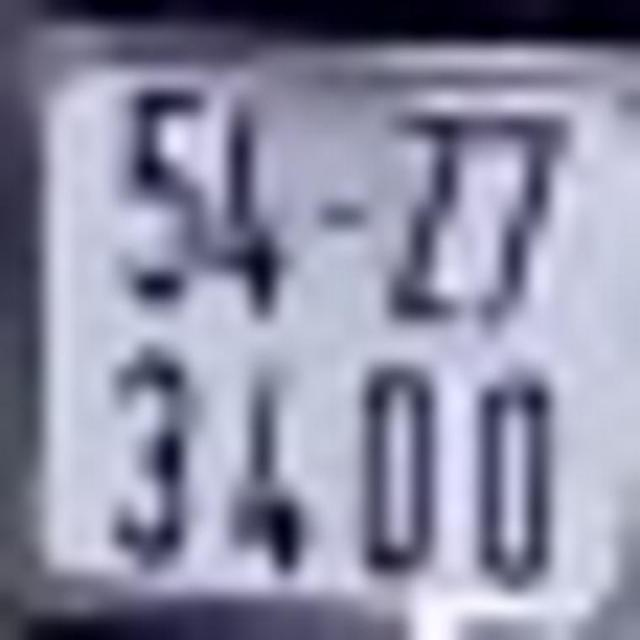0: (472, 364, 551, 586), (361, 353, 428, 578)
3: (108, 340, 188, 580)
4: (230, 358, 304, 580)
5: (126, 81, 203, 304)
7: (479, 104, 569, 333), (216, 99, 296, 327)
Z: (384, 104, 460, 322)
